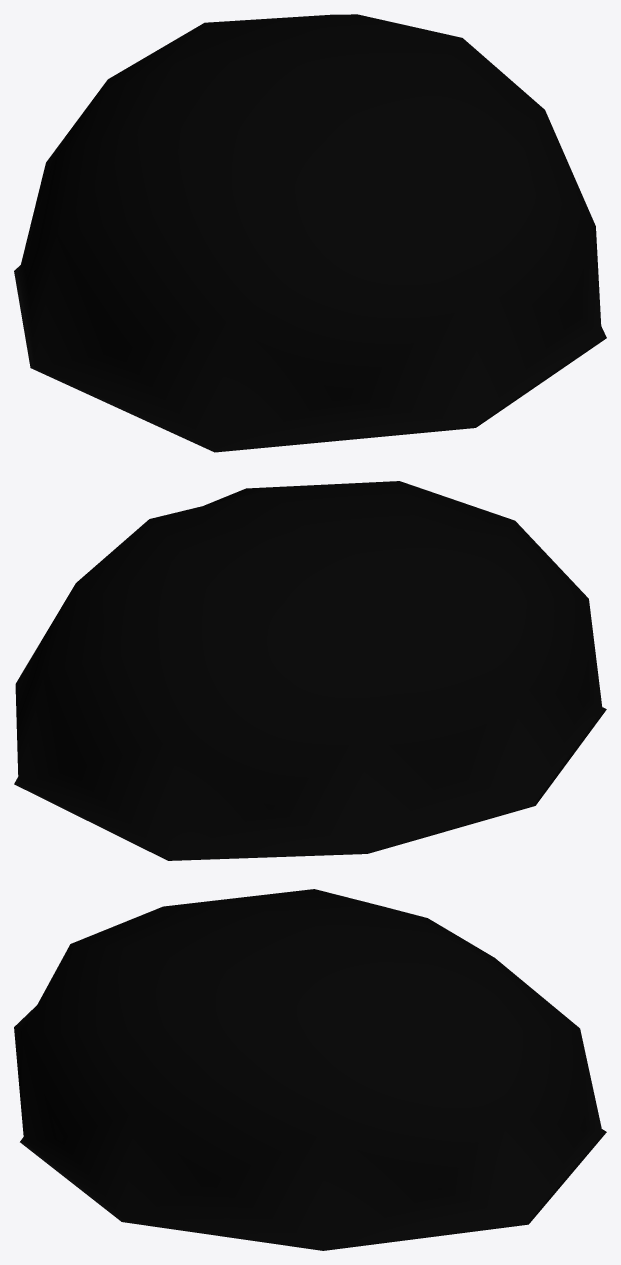
Rendered from object_40.002_lev3.glb.
The picture shows the model from 3 angles, top to bottom: view 1: azimuth 30°, elevation 25°; view 2: azimuth 150°, elevation 25°; view 3: azimuth 270°, elevation 25°; orthographic projection. The views are drawn at different scales.
Parts seen in each view (by area): view 1: object_40.002_lev3; view 2: object_40.002_lev3; view 3: object_40.002_lev3.
Part boxes in pixels (x1,y1,x2,y2): object_40.002_lev3: (14, 14, 606, 452); object_40.002_lev3: (14, 481, 606, 860); object_40.002_lev3: (14, 889, 606, 1250).
Size of the model in its own units: 4.11 by 1.82 by 4.6.
Materials: 1 (1 with a texture image).
